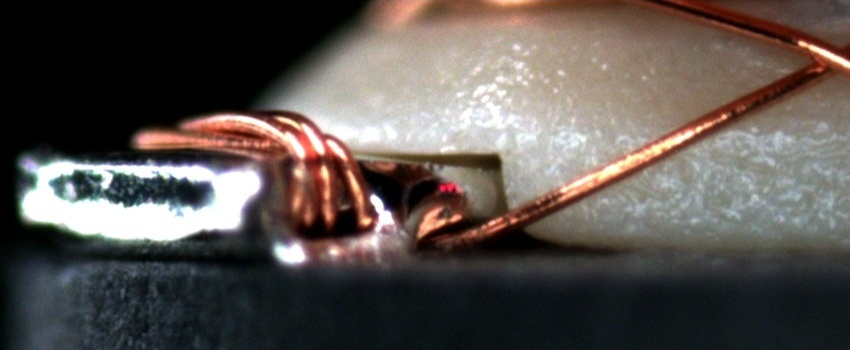CL: (782, 31, 846, 87)
DL: (540, 104, 850, 164)
TE: (130, 99, 385, 233)
